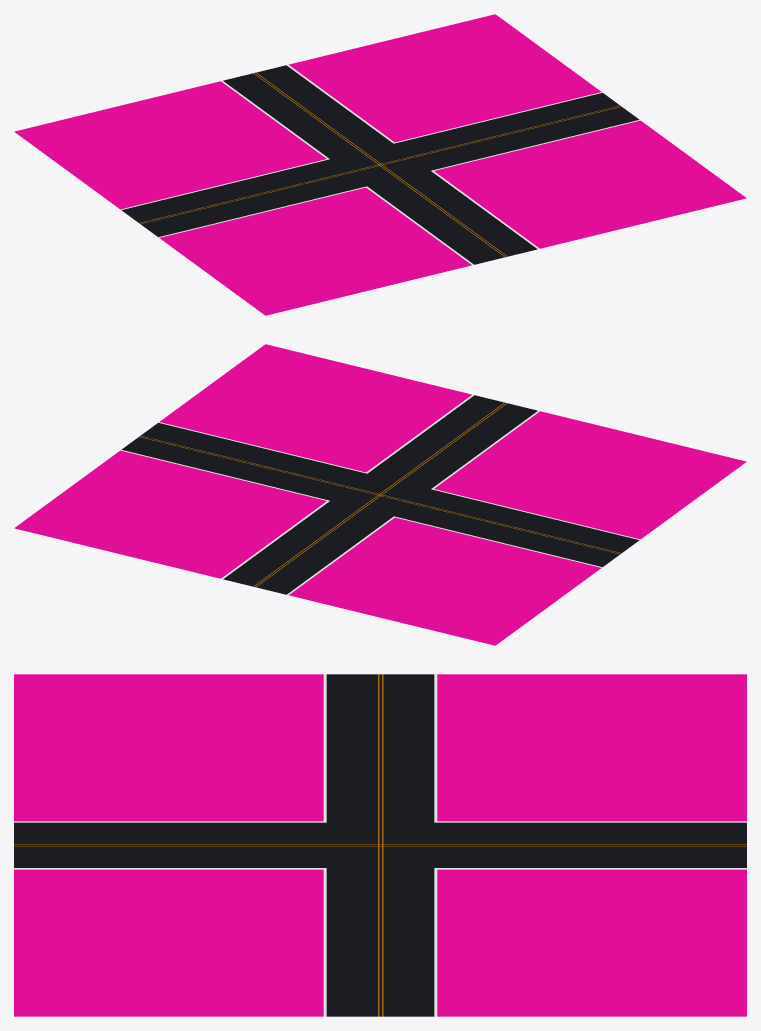
The model's file is CrossRoad.fbx.
3 renders of one model, top to bottom at view 1: azimuth 30°, elevation 25°; view 2: azimuth 150°, elevation 25°; view 3: azimuth 270°, elevation 25°, orthographic. The views are drawn at different scales.
Visible parts, largest first — view 1: Plane_4; view 2: Plane_4; view 3: Plane_4.
Part boxes in pixels (bbox=[...]): Plane_4: bbox=[14, 14, 746, 315]; Plane_4: bbox=[14, 344, 746, 645]; Plane_4: bbox=[14, 674, 746, 1016].
Size of the model in its own units: 3010 by 0 by 2724.
